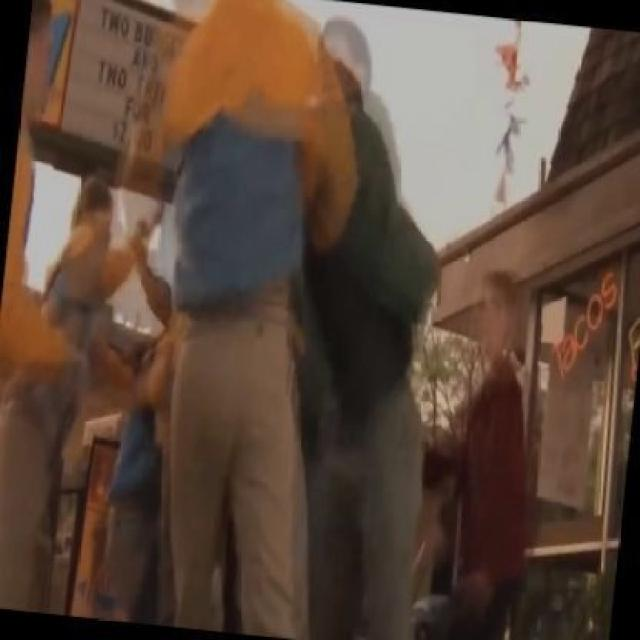fight: (146, 0, 488, 628)
